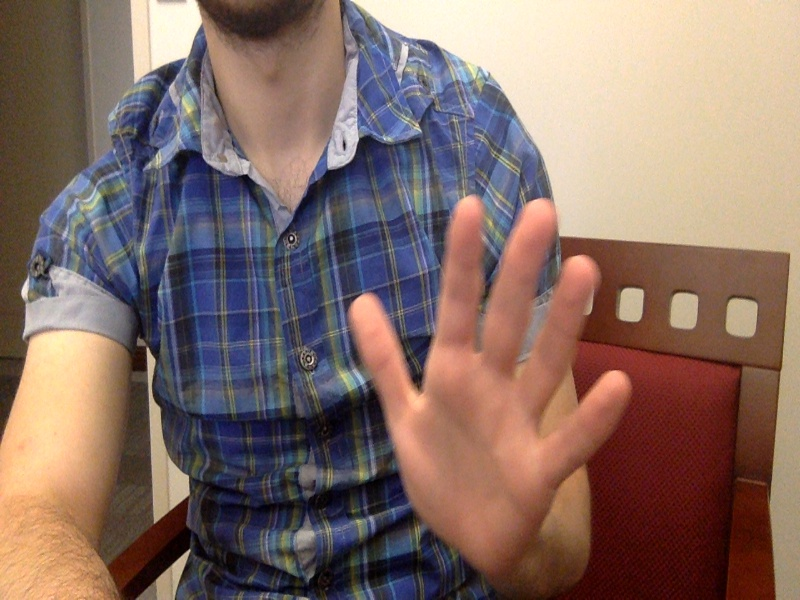5-hand: (345, 196, 632, 573)
